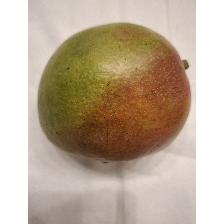Mango: (37, 20, 193, 164)
